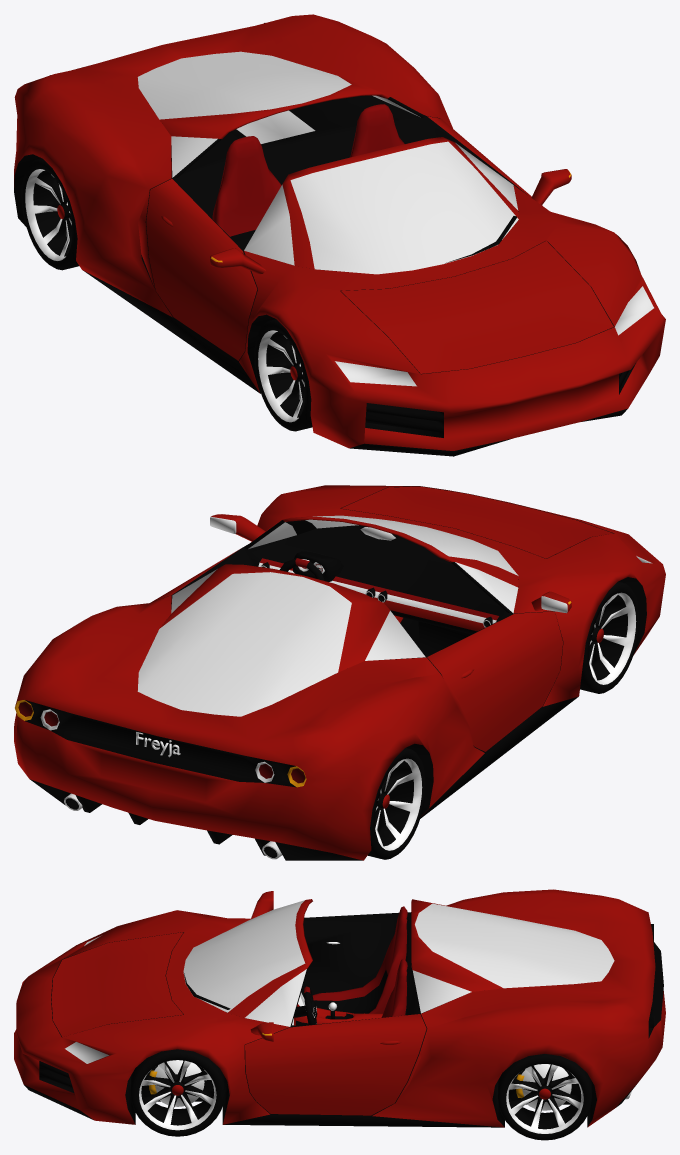
Rendered from car.glb.
3 views of the same model, one above another, from view 1: azimuth 30°, elevation 25°; view 2: azimuth 150°, elevation 25°; view 3: azimuth 270°, elevation 25° (orthographic). The views are drawn at different scales.
Parts seen in each view (by area): view 1: Body; view 2: Body; view 3: Body.
Boxes of the visible parts, x1,y1,x2,y2 form: Body: (14, 14, 665, 456); Body: (14, 485, 665, 860); Body: (14, 889, 665, 1140).
Bounding box in the file's own units: 1.58 × 0.7492 × 2.99.
